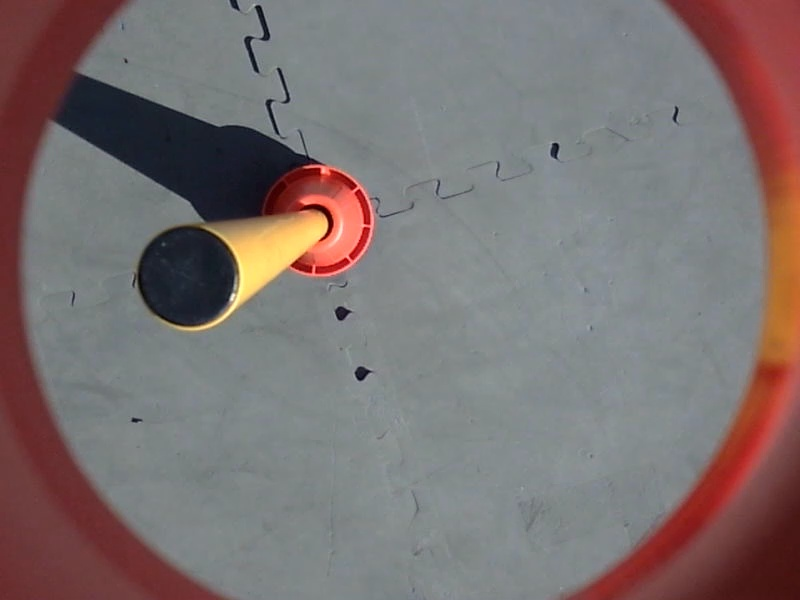tip: (136, 219, 250, 335)
